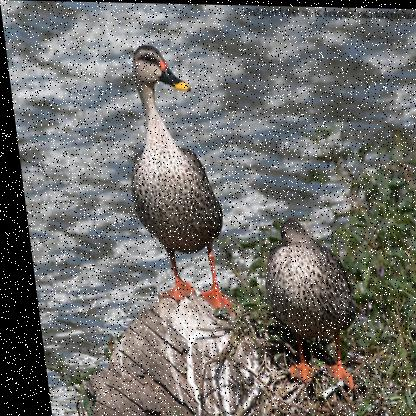Burung: (113, 43, 227, 312)
